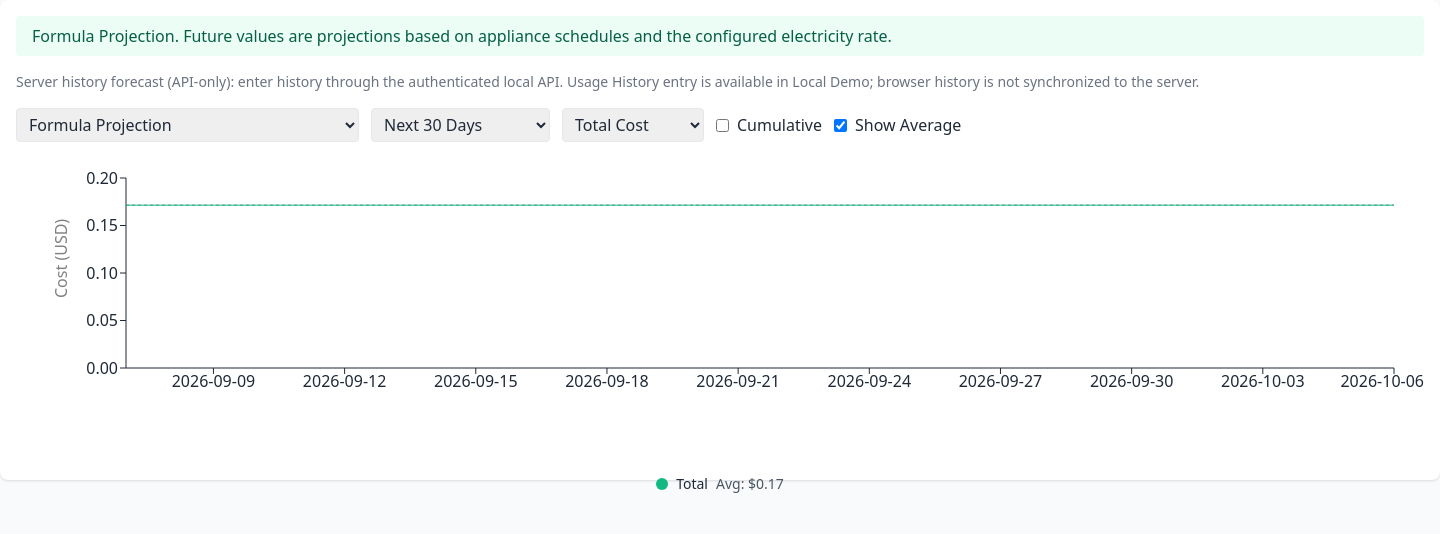
Test: EnergyUsageChart source behavior › uses forecast language only for available history-driven output
Select "History-Based Forecast (API-only history)" in the dropdown named "Projection or forecast source" at (188, 125), box [16,108,359,142]
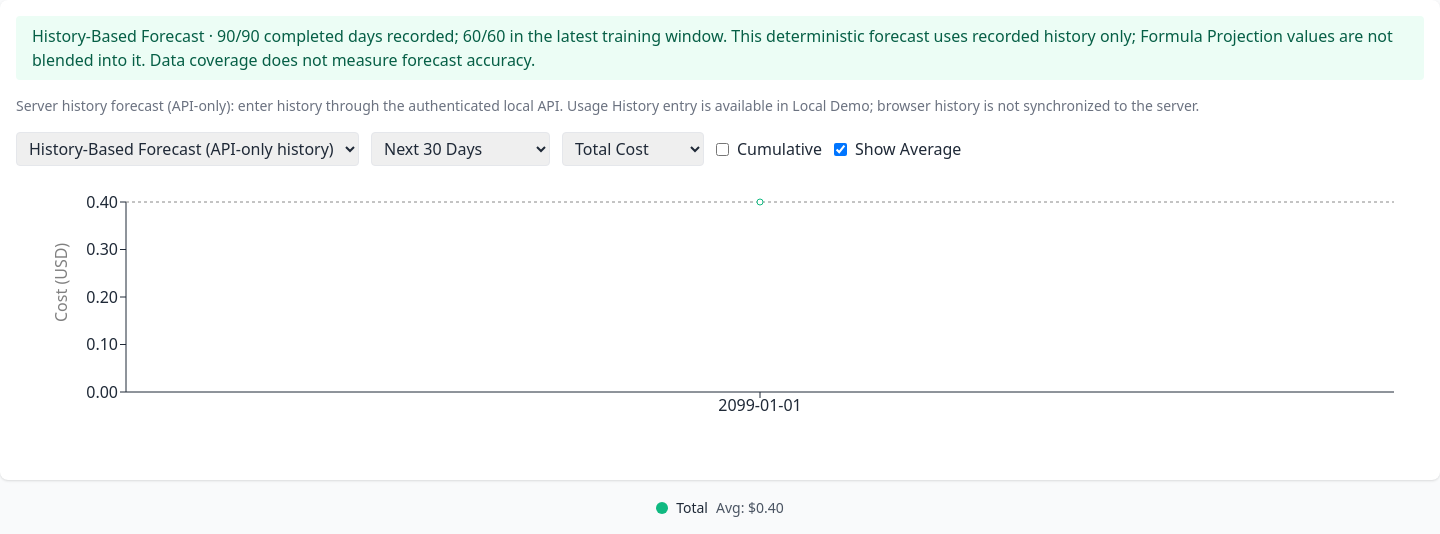
Expected: the text "Server history forecast (API-only)" is shown, [16,96,1199,115]
Result: the text "History-Based Forecast · 90/90 completed days recorded" is shown at [32,25,723,47]
Result: the text "deterministic forecast uses recorded history only" is shown at [32,25,1393,71]
